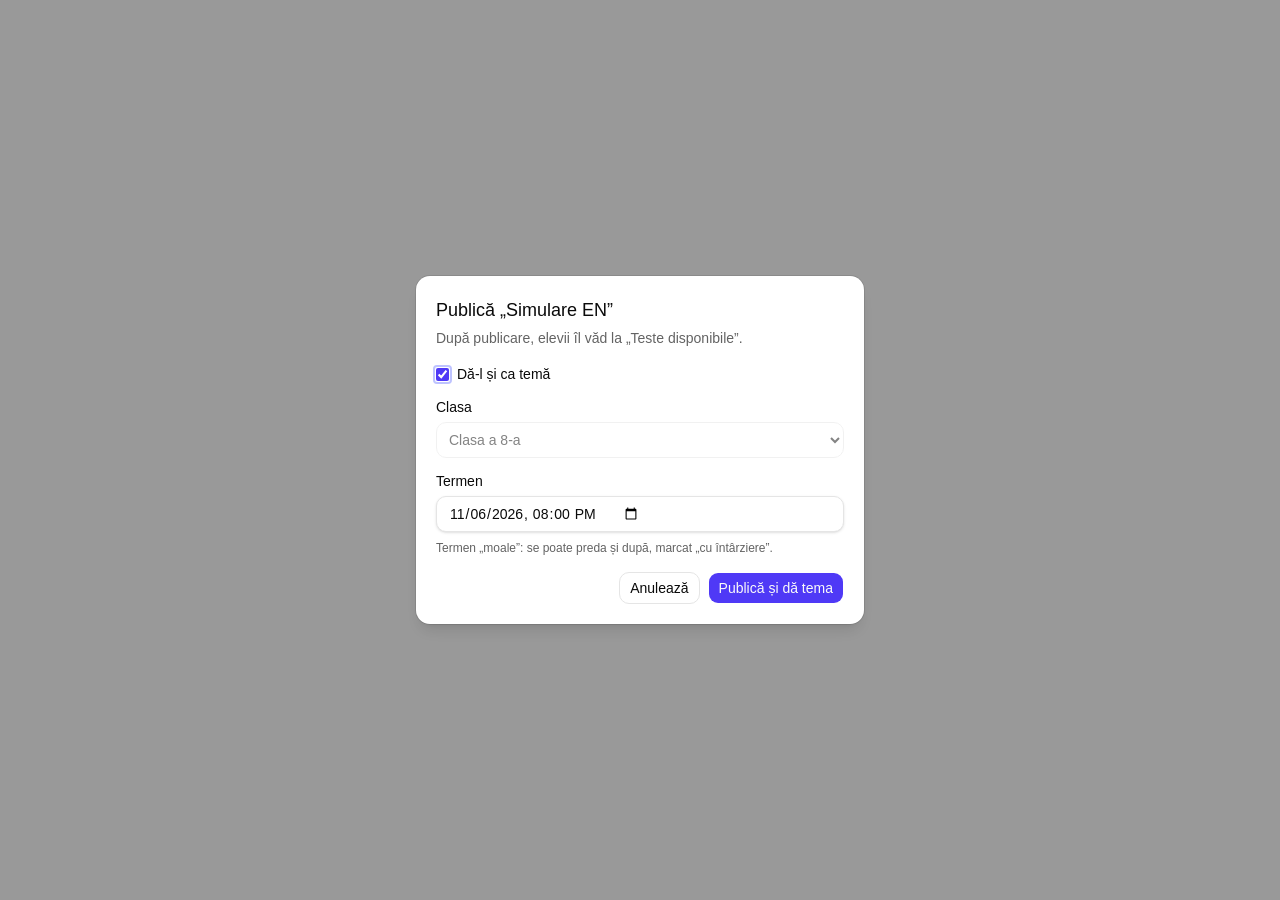
Test: PublishDialog › keeps the dialog open with the server's reason when it refuses
Click the button "Publică și dă tema" at (776, 588), box [708,572,844,604]
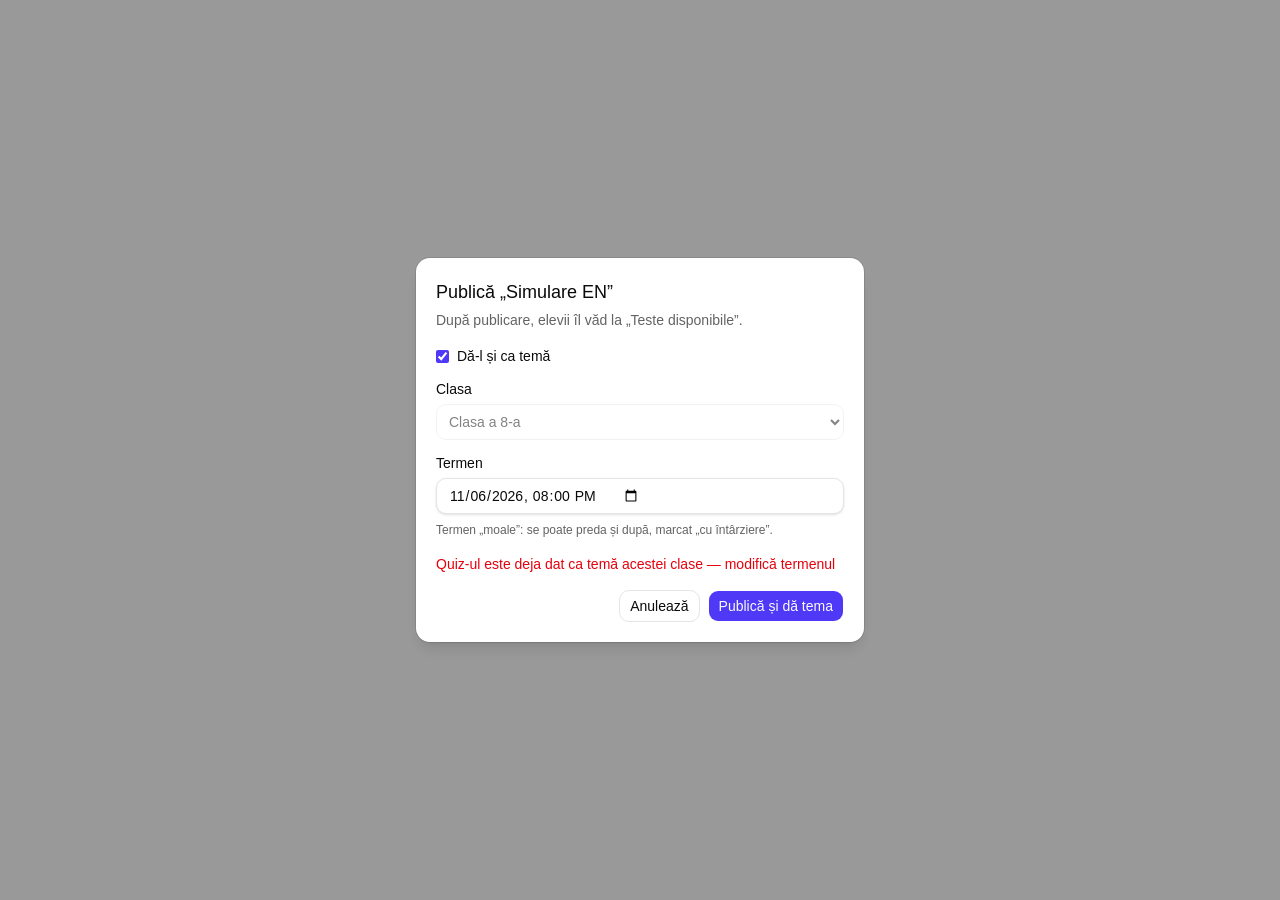
Check: the message shows "deja dat ca temă", box [436,556,835,572]
